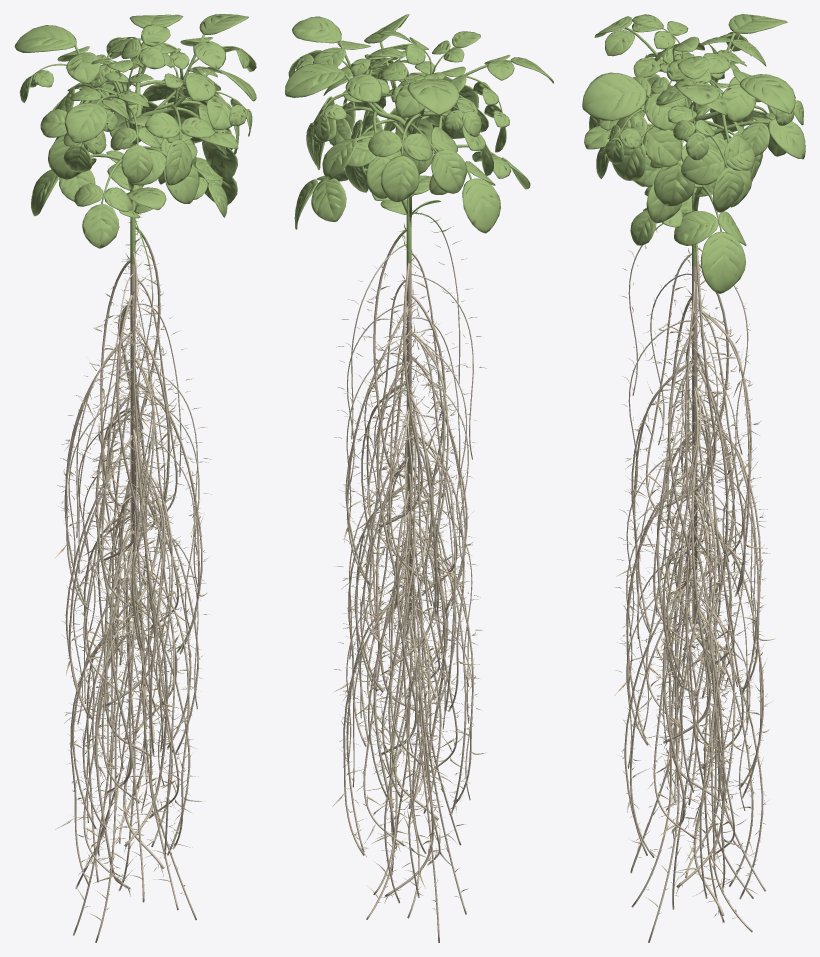
Rendered from potato01-web.glb.
3 views of the same model, side by side, from view 1: azimuth 30°, elevation 25°; view 2: azimuth 150°, elevation 25°; view 3: azimuth 270°, elevation 25° (orthographic). The views are drawn at different scales.
Visible parts, largest first — view 1: roots, shoot, root-details; view 2: roots, shoot, root-details; view 3: roots, shoot, root-details.
Boxes of the visible parts, bbox=[...] form: roots: bbox=[55, 238, 211, 942]; shoot: bbox=[14, 14, 256, 267]; root-details: bbox=[54, 250, 206, 887]; roots: bbox=[332, 229, 487, 942]; shoot: bbox=[285, 14, 553, 265]; root-details: bbox=[333, 266, 479, 888]; roots: bbox=[614, 244, 773, 942]; shoot: bbox=[582, 14, 805, 293]; root-details: bbox=[614, 280, 775, 907].
Bounding box in the file's own units: 0.4805 × 1.83 × 0.4071.
